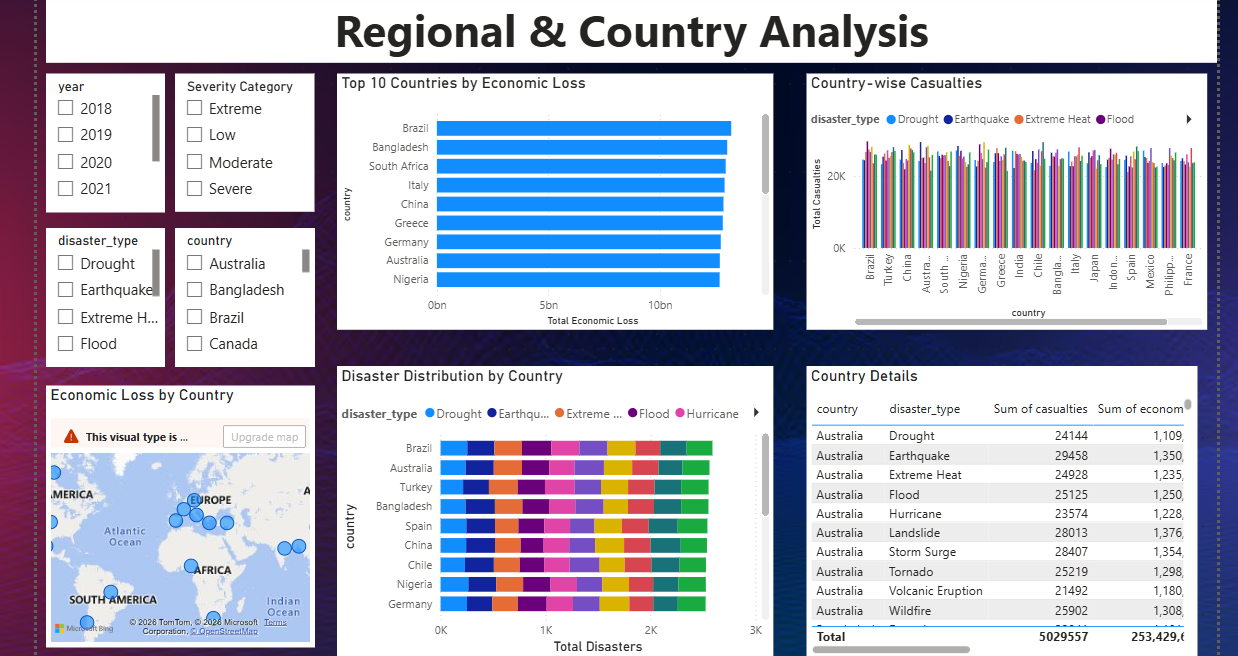

What the dashboard file says about the page in this screenshot:
{"tool":"powerbi","page":{"name":"Page 2","canvas":[1280,720],"ordinal":1},"visuals":[{"type":"textbox","box":[9.8,0,1270.8,74.8],"z":0},{"type":"slicer","fields":{"Values":["global_disaster_clean.year"]},"box":[9.8,86.2,128.5,149.7],"z":1},{"type":"slicer","fields":{"Values":["global_disaster_clean.country"]},"box":[149.7,253.8,151.3,149.7],"z":2},{"type":"slicer","fields":{"Values":["global_disaster_clean.disaster_type"]},"box":[9.8,253.8,128.5,149.7],"z":3},{"type":"slicer","fields":{"Values":["global_disaster_clean.Severity Category"]},"box":[149.7,86.2,151.3,149.7],"z":4},{"type":"map","title":"Economic Loss by Country","fields":{"Category":["global_disaster_clean.country"],"Size":["global_disaster_clean.Total Economic Loss"]},"box":[9.8,424.7,291.3,283.1],"z":5},{"type":"clusteredBarChart","title":"Top 10 Countries by Economic Loss","fields":{"Category":["global_disaster_clean.country"],"Y":["global_disaster_clean.Total Economic Loss"]},"box":[325.4,86.2,473.5,278.2],"z":6},{"type":"clusteredColumnChart","title":"Country-wise Casualties","fields":{"Category":["global_disaster_clean.country"],"Series":["global_disaster_clean.disaster_type"],"Y":["global_disaster_clean.Total Casualties"]},"box":[834.7,86.2,434.4,278.2],"z":7},{"type":"barChart","title":"Disaster Distribution by Country","fields":{"Category":["global_disaster_clean.country"],"Series":["global_disaster_clean.disaster_type"],"Y":["global_disaster_clean.Total Disasters"]},"box":[325.4,403.5,473.5,317.3],"z":8},{"type":"tableEx","title":"Country Details","fields":{"Values":["global_disaster_clean.country","global_disaster_clean.disaster_type","Sum(global_disaster_clean.casualties)","Sum(global_disaster_clean.economic_loss_usd)","Sum(global_disaster_clean.aid_amount_usd)","Sum(global_disaster_clean.response_time_hours)","Sum(global_disaster_clean.recovery_days)"]},"box":[834.7,403.5,423.1,317.3],"z":9}]}

Visuals, with their boxes in screenshot pixels (x1, y1, x2, y2):
textbox: [38, 0, 1219, 57]
slicer - global_disaster_clean.year: [38, 67, 158, 206]
slicer - global_disaster_clean.country: [168, 223, 309, 362]
slicer - global_disaster_clean.disaster_type: [38, 223, 158, 362]
slicer - global_disaster_clean.Severity Category: [168, 67, 309, 206]
"Economic Loss by Country" map: [38, 382, 309, 645]
"Top 10 Countries by Economic Loss" clusteredBarChart: [331, 67, 771, 326]
"Country-wise Casualties" clusteredColumnChart: [805, 67, 1208, 326]
"Disaster Distribution by Country" barChart: [331, 362, 771, 655]
"Country Details" tableEx: [805, 362, 1198, 655]
